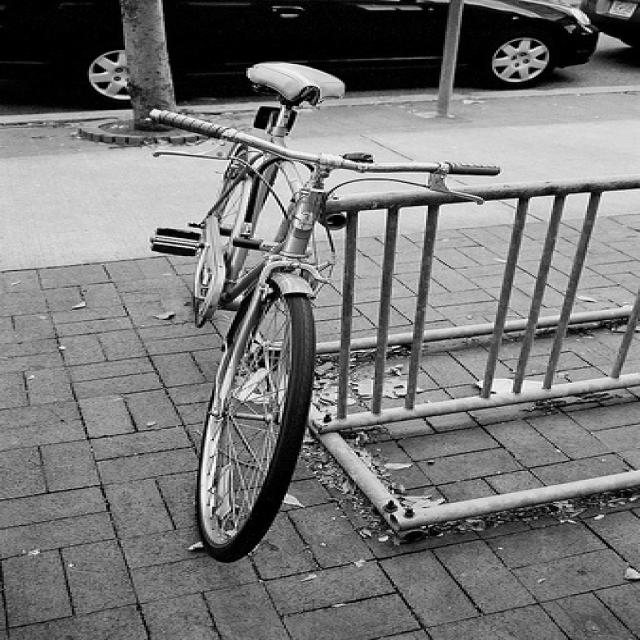bicycle: (148, 63, 500, 562)
car: (0, 0, 598, 103)
